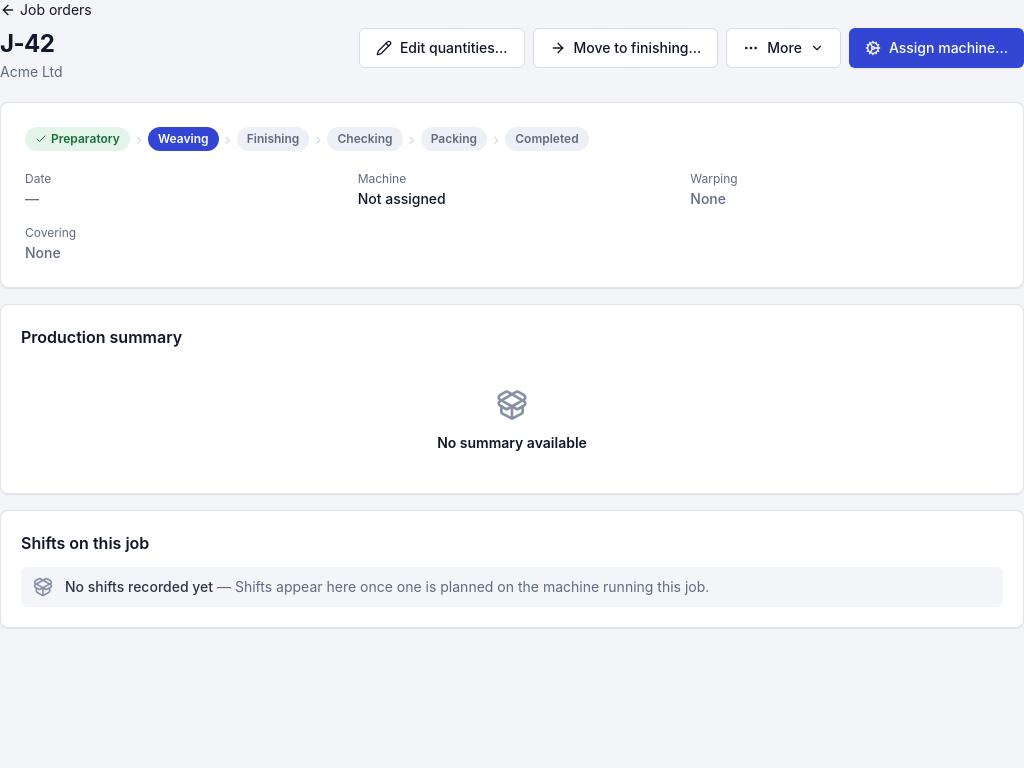
Test: QR label, from the job detail page › opens a sheet carrying this job's QR
What coordinates should you click on to do the following:
click the button "More"
I would click on:
 (784, 48)
Its box is top-left (726, 28), bottom-right (841, 68).
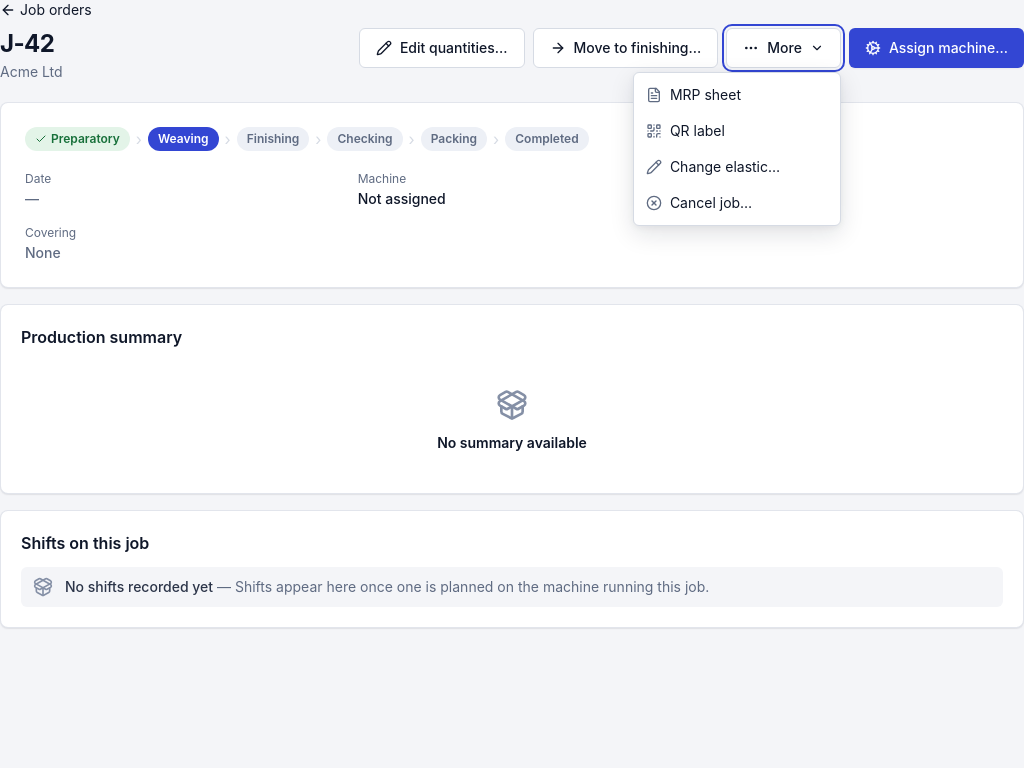
What coordinates should you click on to do the following:
click the menu item "QR label"
I would click on:
 (737, 131)
Its box is top-left (634, 113), bottom-right (840, 149).
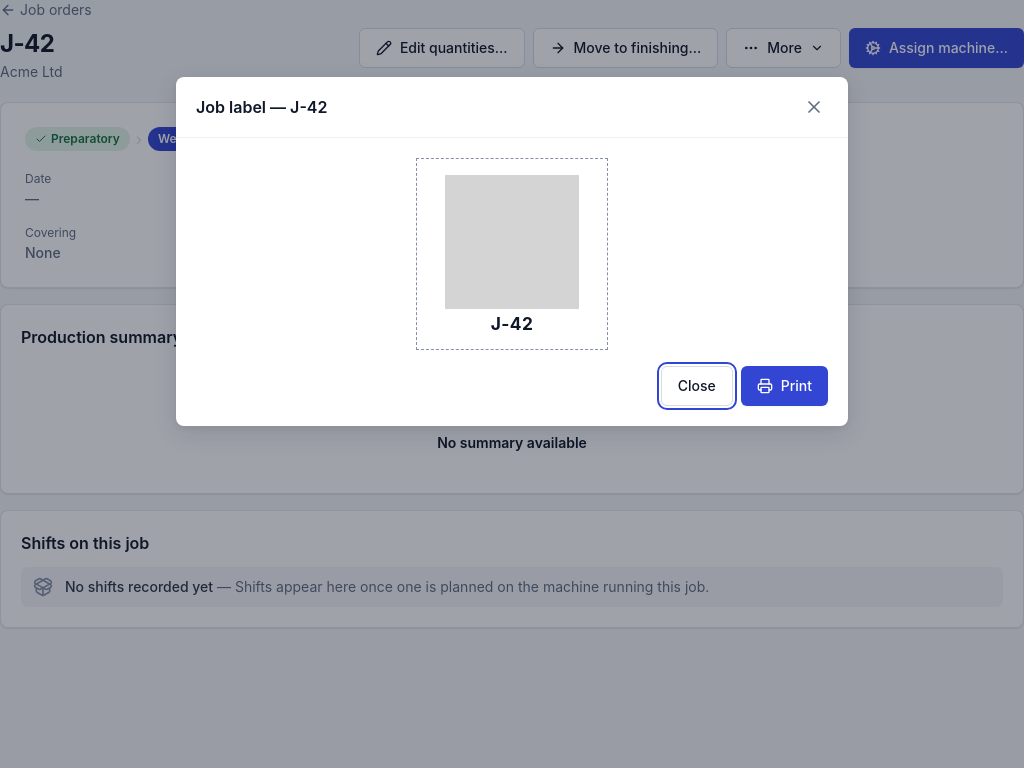
Expected: the button "Print" is shown, top-left (741, 366), bottom-right (828, 406)
